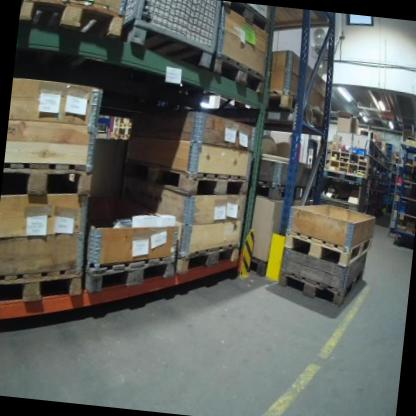pallet: (0, 148, 98, 211), (118, 158, 250, 201), (82, 244, 177, 303), (0, 256, 85, 321), (18, 0, 130, 49), (277, 259, 365, 310), (281, 223, 373, 268), (175, 231, 243, 283), (211, 50, 272, 96), (264, 91, 331, 122)
stillage: (114, 0, 225, 74)
